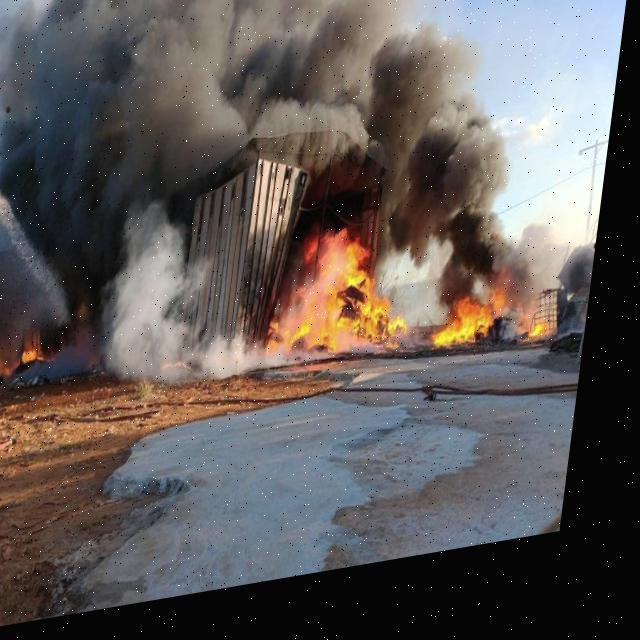Fire: (279, 218, 431, 370), (441, 286, 520, 366), (0, 332, 49, 384), (167, 354, 209, 386), (538, 329, 558, 362)
